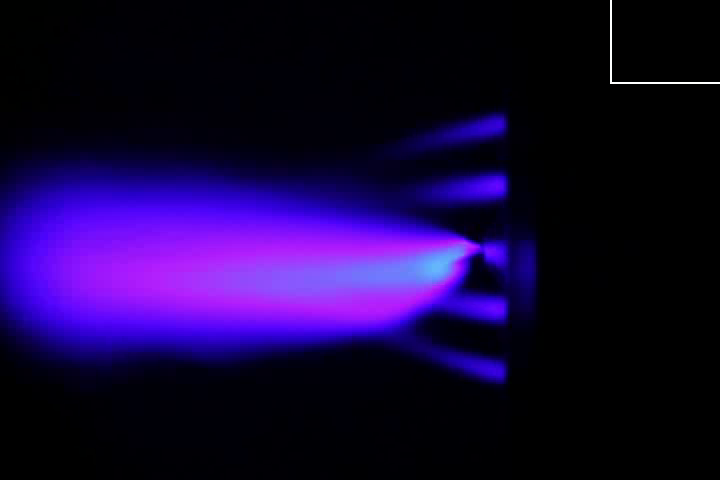burner cap: (480, 236, 507, 267)
pilot flame: (401, 331, 507, 388), (412, 111, 506, 149), (410, 173, 508, 205), (444, 297, 508, 326)
stable: (46, 214, 479, 320)
